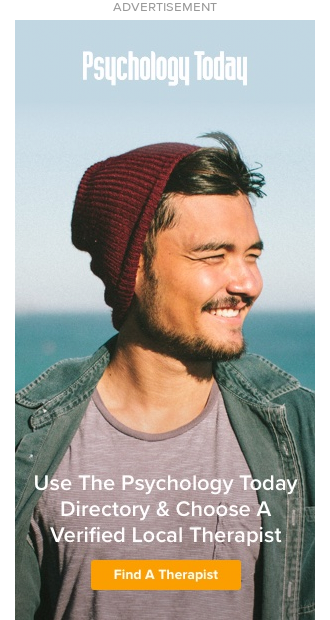fake_button: (86, 556, 248, 603)
